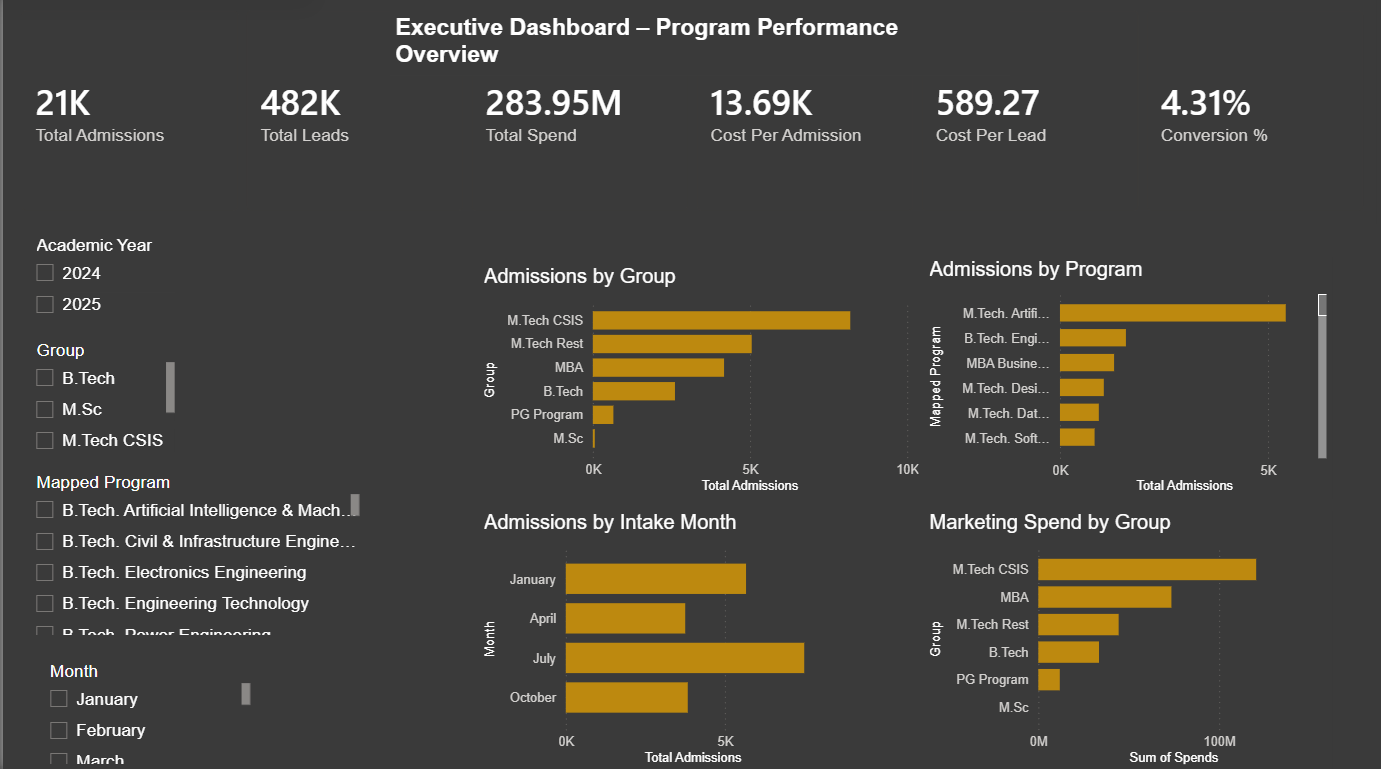

Layout of this report page (visuals, bound fields, positions):
{"tool":"powerbi","page":{"name":"Executive Dashboard","canvas":[1280,720],"ordinal":0},"visuals":[{"type":"cardVisual","fields":{"Data":["Fact_ProgramAnalysis.Total Admissions","Fact_ProgramAnalysis.Total Leads","Fact_ProgramAnalysis.Total Spend","Fact_ProgramAnalysis.Cost Per Admission","Fact_ProgramAnalysis.Cost Per Lead","Fact_ProgramAnalysis.Conversion %"]},"box":[0,0,1279.5,219.4],"z":0},{"type":"slicer","fields":{"Values":["Fact_ProgramAnalysis.Academic Year"]},"box":[18.2,219.6,145.4,96.9],"z":1000},{"type":"slicer","fields":{"Values":["Dim_Group.Group"]},"box":[18.2,316.5,145.4,121.1],"z":2000},{"type":"slicer","fields":{"Values":["Fact_ProgramAnalysis.Mapped Program"]},"box":[18.2,437.6,316.5,160.5],"z":3000},{"type":"slicer","fields":{"Values":["Dim_Drive.Drive.Variation.Date Hierarchy.Month"]},"box":[30.3,613.3,202.9,106],"z":4000},{"type":"clusteredBarChart","title":"Admissions by Intake Month","fields":{"Category":["Dim_Drive.Drive.Variation.Date Hierarchy.Month"],"Y":["Fact_ProgramAnalysis.Total Admissions"]},"box":[439.1,480,328.6,239.2],"z":5000},{"type":"clusteredBarChart","title":"Admissions by Group","fields":{"Category":["Dim_Group.Group"],"Y":["Fact_ProgramAnalysis.Total Admissions"]},"box":[439.1,252.9,411.9,215],"z":6000},{"type":"clusteredBarChart","title":"Admissions by Program","fields":{"Y":["Fact_ProgramAnalysis.Total Admissions"],"Category":["Fact_ProgramAnalysis.Mapped Program"]},"box":[851,245.3,377,222.6],"z":7000},{"type":"clusteredBarChart","title":"Marketing Spend by Group","fields":{"Category":["Fact_ProgramAnalysis.Group"],"Y":["Sum(Fact_ProgramAnalysis.Spends)"]},"box":[851,480,377,239],"z":8000},{"type":"textbox","box":[358.2,15.1,573.6,61.8],"z":9000}]}

Visuals, with their boxes in screenshot pixels (x1, y1, x2, y2), scaled from the page's 1280x720 canvas onto the 1381x769 screenshot:
cardVisual - Fact_ProgramAnalysis.Total Admissions x Fact_ProgramAnalysis.Total Leads: 0:0:1380:234
slicer - Fact_ProgramAnalysis.Academic Year: 20:235:177:338
slicer - Dim_Group.Group: 20:338:177:467
slicer - Fact_ProgramAnalysis.Mapped Program: 20:467:361:639
slicer - Dim_Drive.Drive.Variation.Date Hierarchy.Month: 33:655:252:768
"Admissions by Intake Month" clusteredBarChart: 474:513:828:768
"Admissions by Group" clusteredBarChart: 474:270:918:500
"Admissions by Program" clusteredBarChart: 918:262:1325:500
"Marketing Spend by Group" clusteredBarChart: 918:513:1325:768
textbox: 386:16:1005:82
